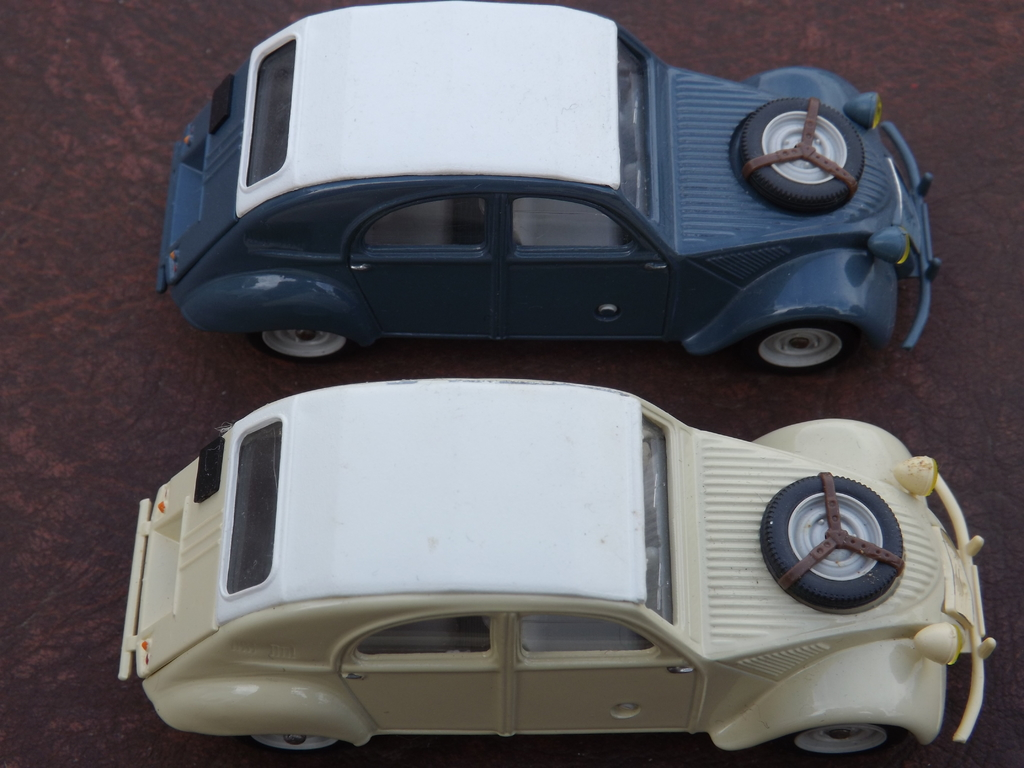mobil: (113, 415, 993, 768), (159, 6, 949, 359)
